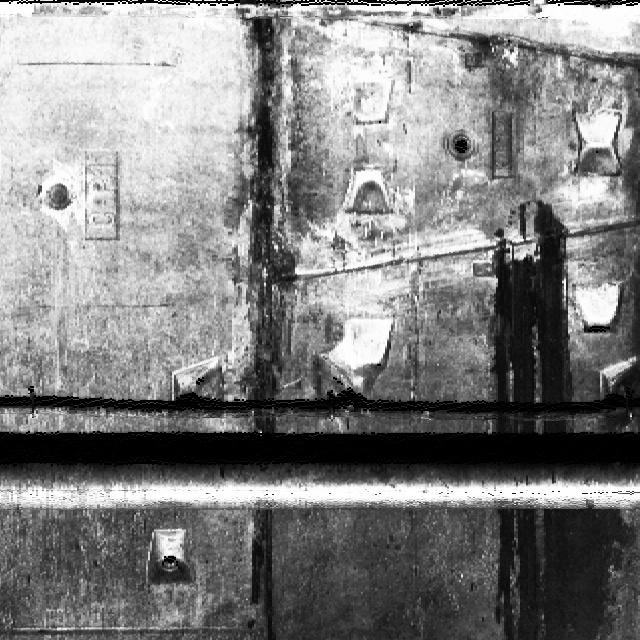leakage: (218, 0, 317, 431), (477, 190, 597, 441), (489, 498, 639, 639), (237, 491, 294, 639)
